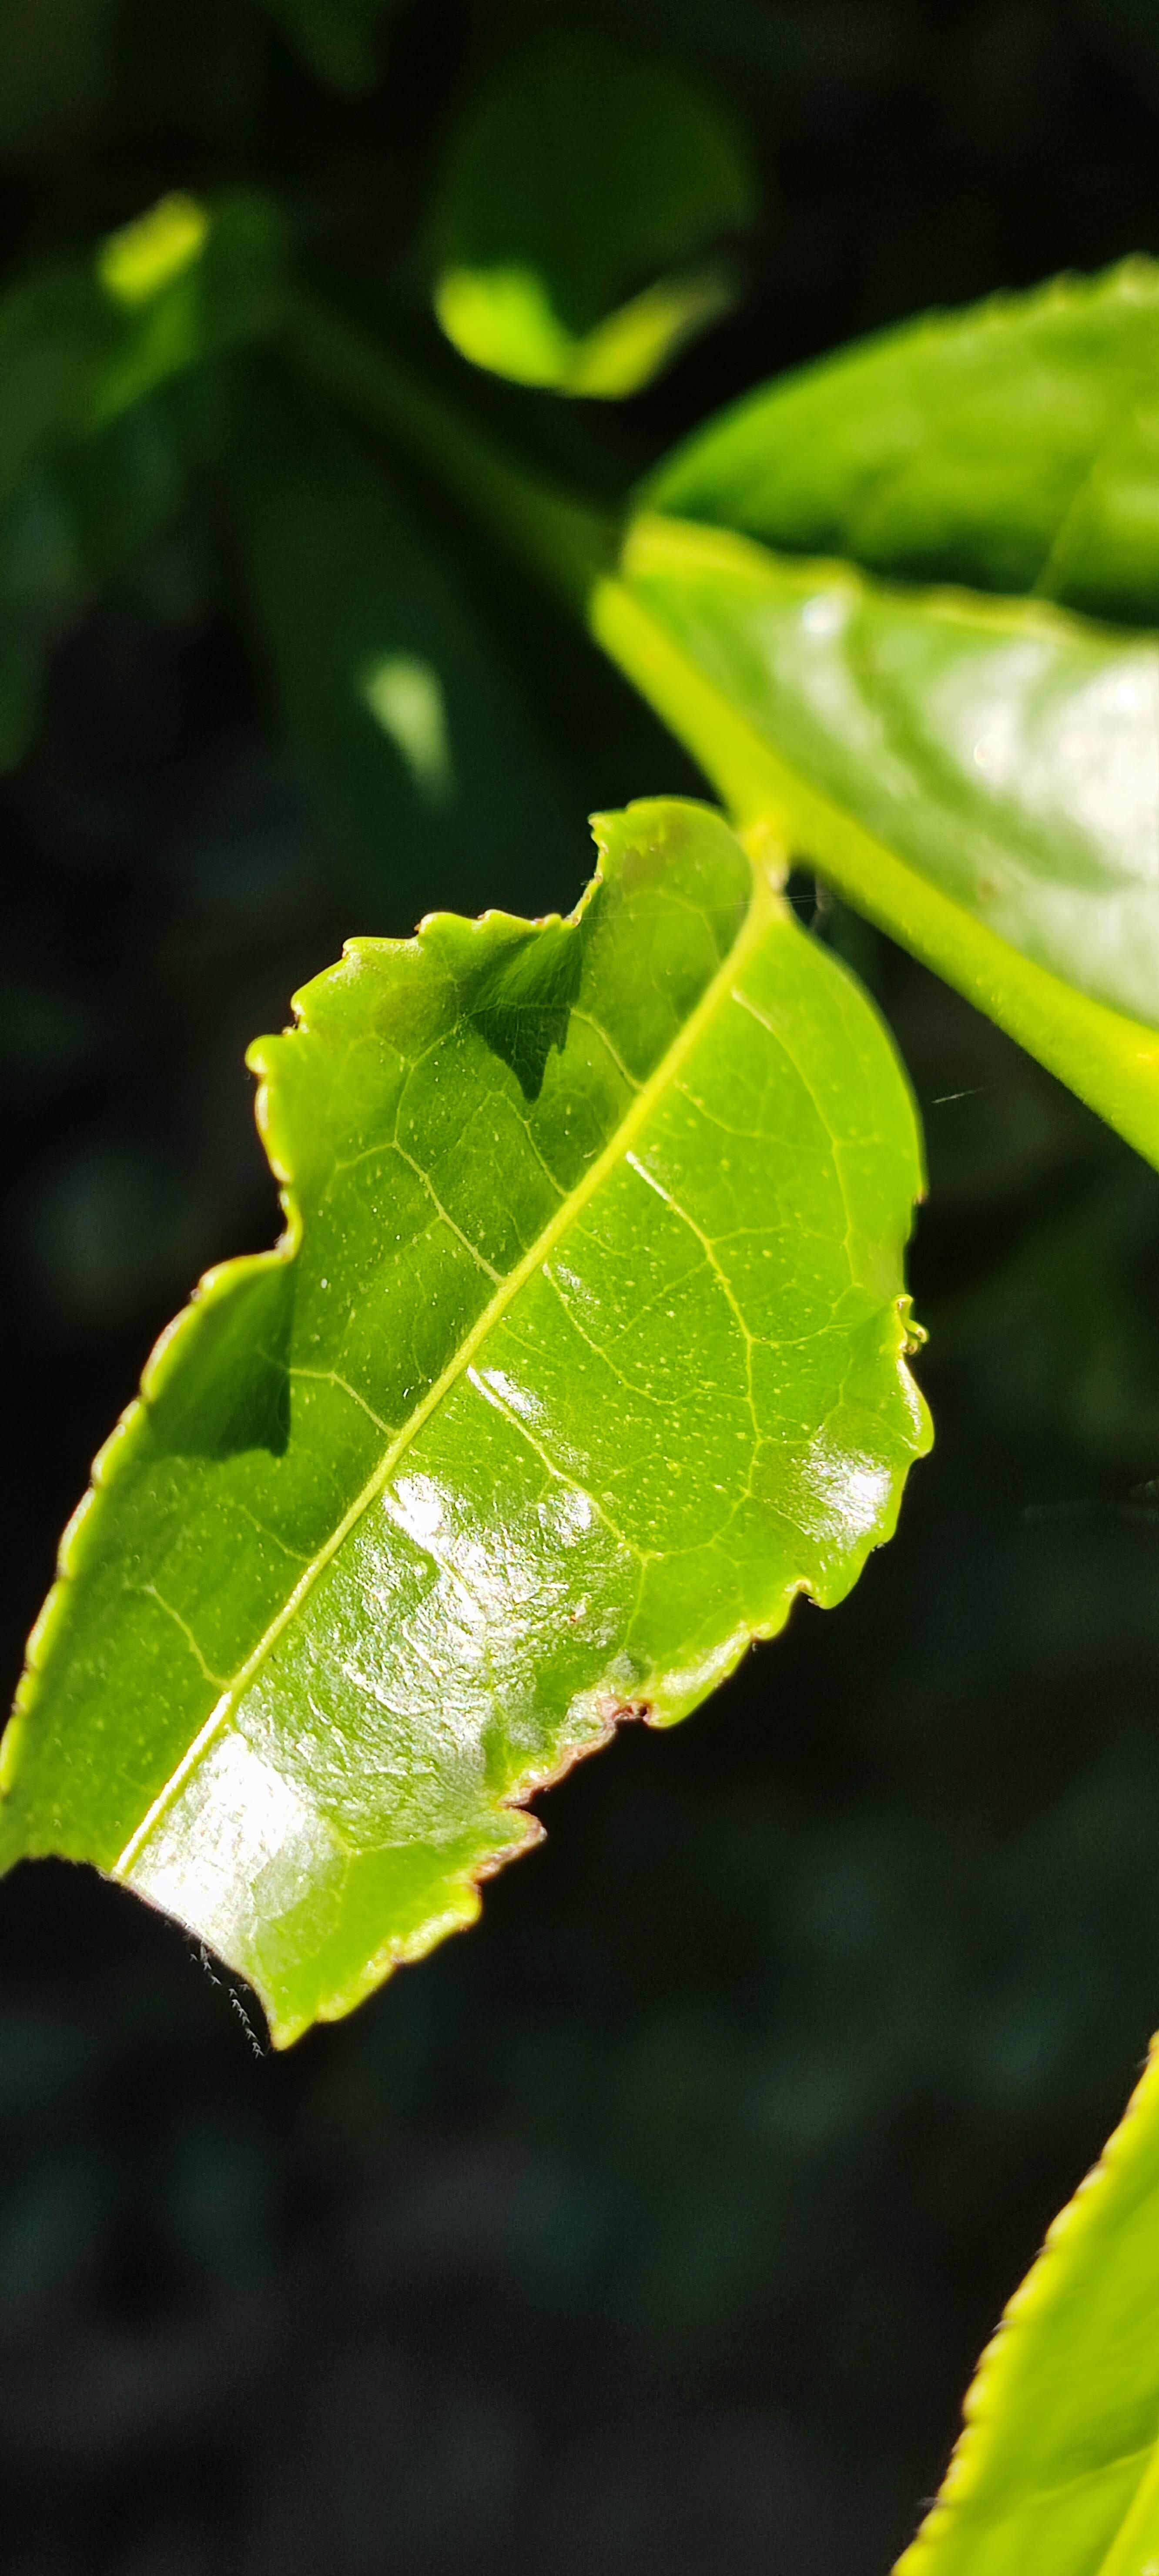chihuo_low: (8, 793, 949, 2049)
